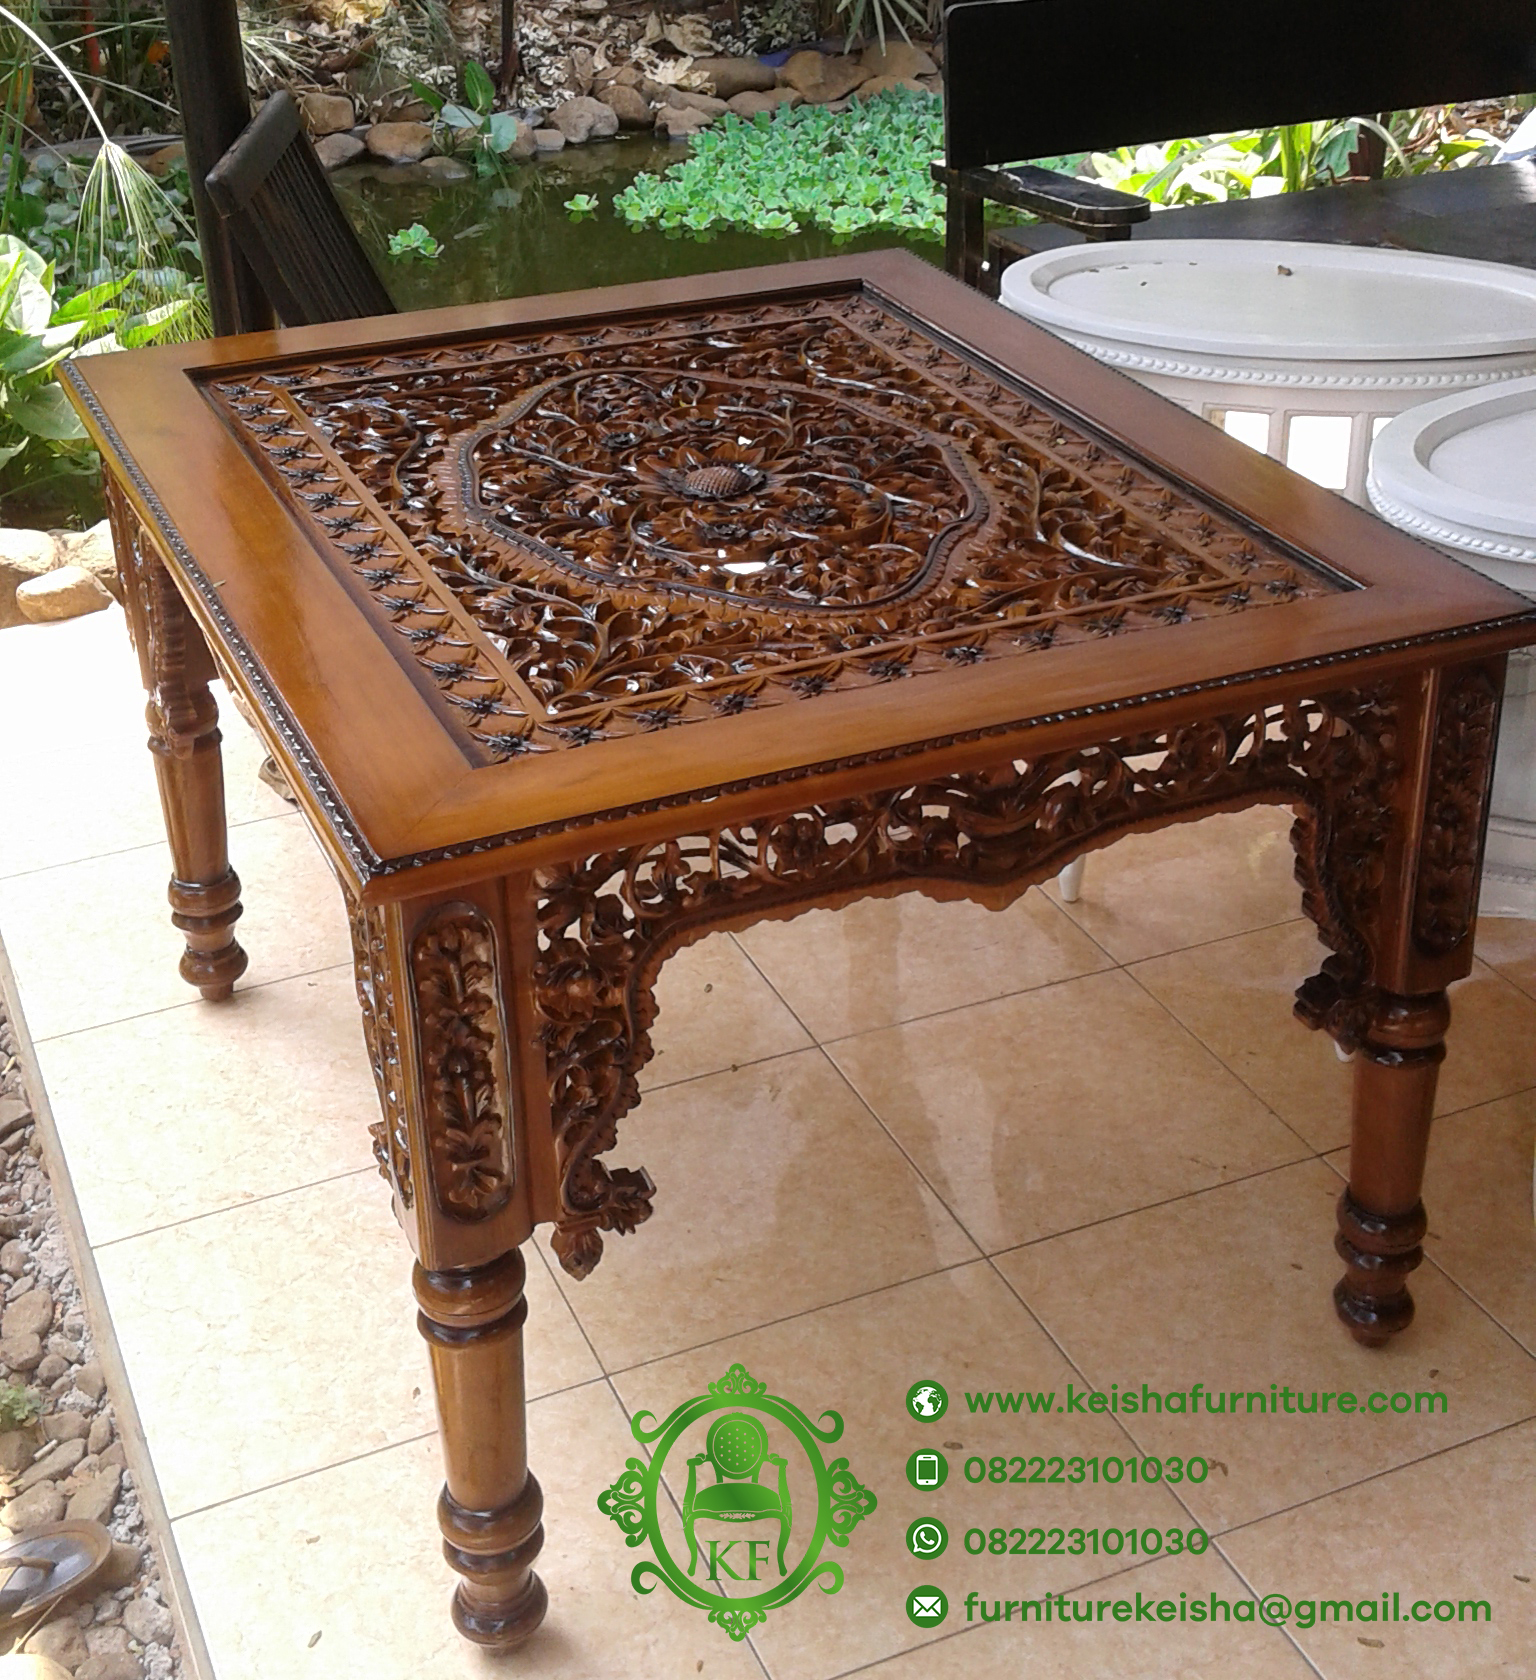Carving Table: (44, 304, 1532, 1491)
